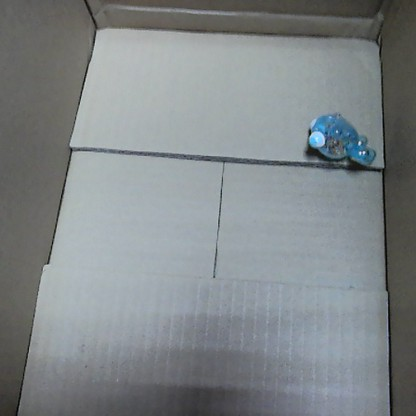bluefish: (304, 106, 378, 171)
